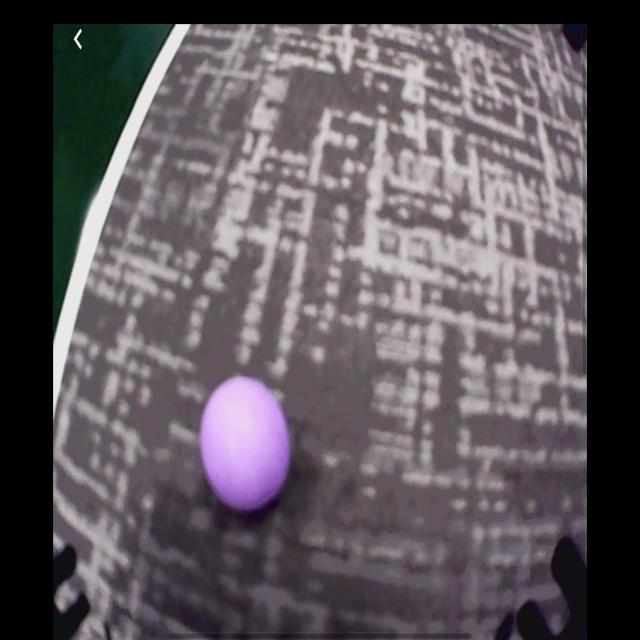ball: (201, 379, 290, 509)
